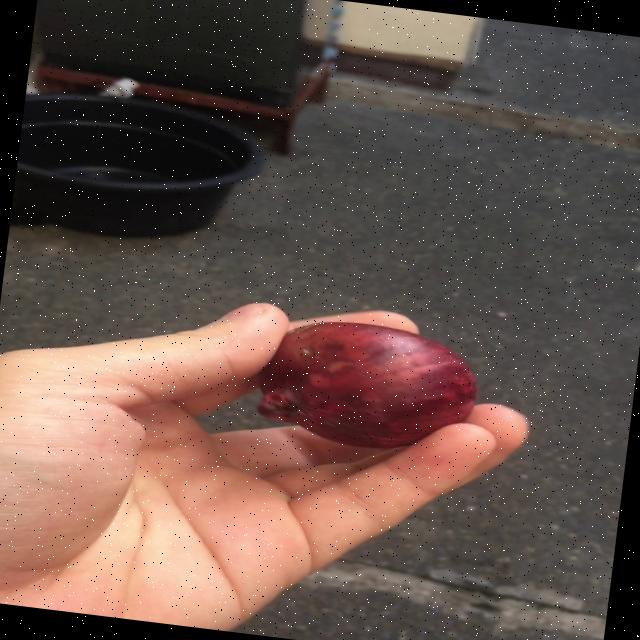Onion: (256, 322, 476, 448)
